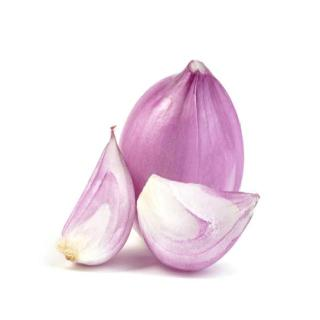Bawang Merah: (118, 59, 262, 274)
